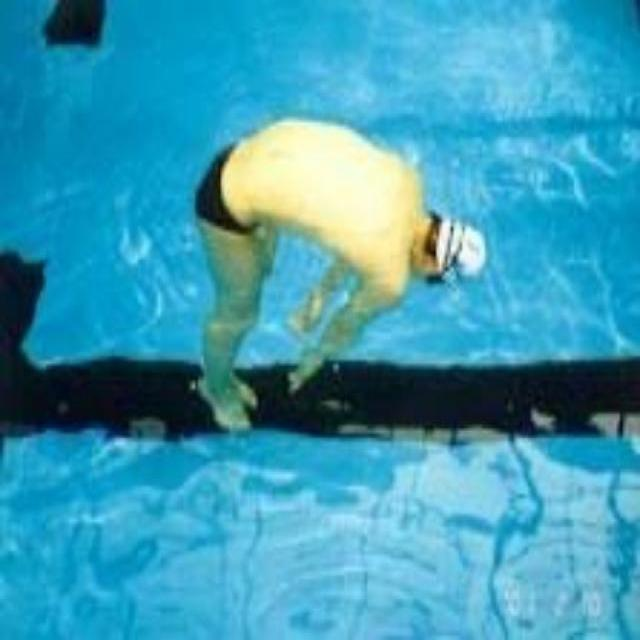Drowning: (181, 118, 488, 445)
